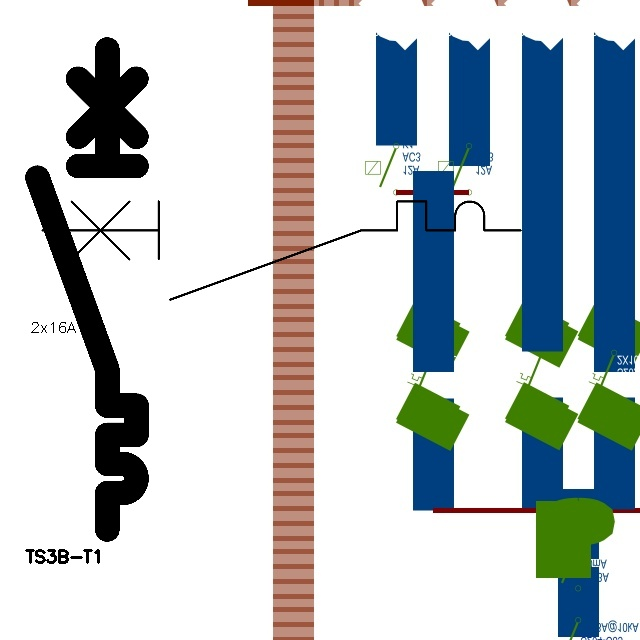interruptor_termomagnetico: (25, 37, 149, 542), (30, 189, 533, 312)
